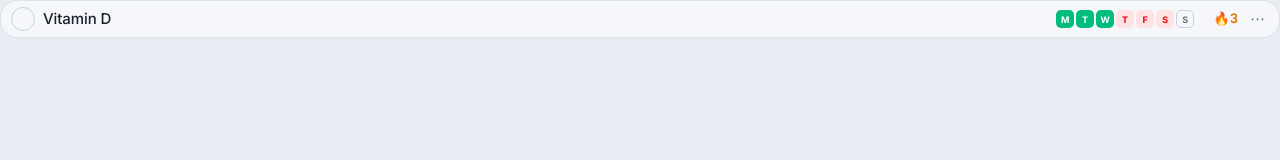
Test: HabitRow › is one line with streak, and details are tucked away until asked for
Expected: the button "Vitamin D" is shown, left=43, top=8, right=1048, bottom=30
Expected: the text "🔥3" is shown, left=1214, top=10, right=1238, bottom=26
Click the button named "Details" at (1258, 19), box left=1246, top=8, right=1269, bottom=30
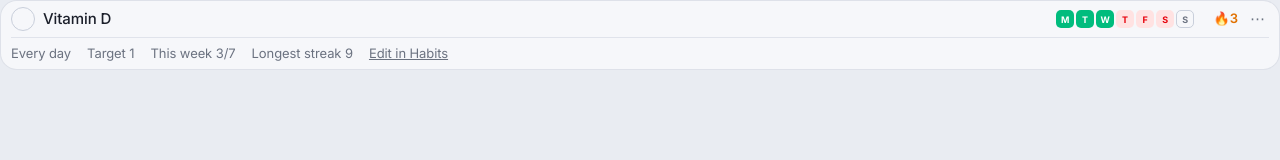
Expected: the text "Longest streak 9" is shown, left=252, top=44, right=353, bottom=63
